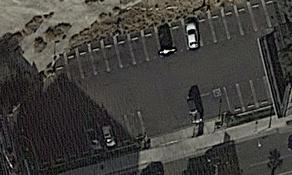parkingspot: (53, 0, 286, 98), (29, 108, 149, 173), (185, 74, 274, 126)
